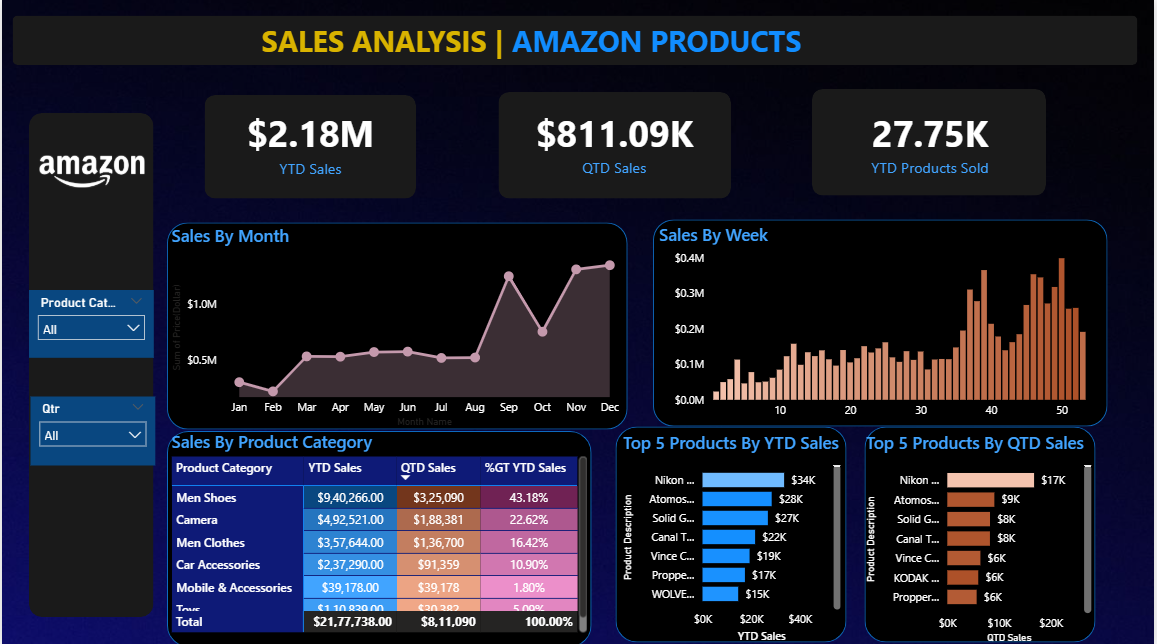

The page's visual inventory and layout, read from the dashboard file:
{"tool":"powerbi","page":{"name":"Page 1","canvas":[1280,720],"ordinal":0},"visuals":[{"type":"shape","box":[11.7,18.3,1250,55],"z":0},{"type":"textbox","box":[283.3,18.3,630,61.7],"z":1000},{"type":"shape","box":[30,126.7,138.3,560],"z":2000},{"type":"shape","box":[183.3,480,471.7,240],"z":3000},{"type":"shape","box":[900,100,260,118.3],"z":4000},{"type":"shape","box":[551.7,103.3,258.3,118.3],"z":5000},{"type":"card","fields":{"Values":["Amazon_Data.QTD Sales"]},"box":[550,100,260,116.7],"z":6000},{"type":"card","fields":{"Values":["Amazon_Data.YTD Products Sold"]},"box":[901.7,100,258.3,116.7],"z":7000},{"type":"shape","box":[183.3,248.3,511.7,230],"z":8000},{"type":"areaChart","title":"Sales By Month","fields":{"Category":["Date Table.Month Name"],"Y":["Sum(Amazon_Data.Price(Dollar))"]},"box":[183.3,250,511.7,230],"z":9000},{"type":"shape","box":[723.3,245,505,230],"z":10000},{"type":"columnChart","title":"Sales By Week","fields":{"Category":["Date Table.Week No"],"Y":["Sum(Amazon_Data.Price(Dollar))"]},"box":[725,248.3,503.3,226.7],"z":11000},{"type":"shape","box":[225,106.7,235,115],"z":12000},{"type":"pivotTable","title":"Sales By Product Category","fields":{"Rows":["Amazon_Data.Product Category"],"Values":["Amazon_Data.YTD Sales1","Amazon_Data.QTD Sales","Amazon_Data.YTD Sales"]},"box":[183.3,478.3,471.7,230],"z":13000},{"type":"card","fields":{"Values":["Amazon_Data.YTD Sales"]},"box":[225,101.7,235,115],"z":14000},{"type":"shape","box":[681.7,475,256.7,240],"z":14001},{"type":"clusteredBarChart","title":"Top 5 Products By YTD Sales","fields":{"Category":["Amazon_Data.Product Description"],"Y":["Amazon_Data.YTD Sales"]},"box":[685,480,251.7,240],"z":14002},{"type":"shape","box":[958.3,475,256.7,240],"z":14003},{"type":"clusteredBarChart","title":"Top 5 Products By QTD Sales","fields":{"Category":["Amazon_Data.Product Description"],"Y":["Amazon_Data.QTD Sales"]},"box":[955,480,260,240],"z":14004},{"type":"slicer","fields":{"Values":["Amazon_Data.Product Category"]},"box":[30,323.3,138.3,75],"z":14005},{"type":"slicer","fields":{"Values":["Date Table.Qtr"]},"box":[31.7,441.7,138.3,76.7],"z":14006},{"type":"image","box":[41.7,133.3,116.7,116.7],"z":14007}]}

Visuals, with their boxes in screenshot pixels (x1, y1, x2, y2), scaled from the page's 1280x720 canvas onto the 1157x644 screenshot:
shape: 11, 16, 1140, 66
textbox: 256, 16, 826, 72
shape: 27, 113, 152, 614
shape: 166, 429, 592, 643
shape: 814, 89, 1049, 195
shape: 499, 92, 732, 198
card - Amazon_Data.QTD Sales: 497, 89, 732, 194
card - Amazon_Data.YTD Products Sold: 815, 89, 1049, 194
shape: 166, 222, 628, 428
"Sales By Month" areaChart: 166, 224, 628, 429
shape: 654, 219, 1110, 425
"Sales By Week" columnChart: 655, 222, 1110, 425
shape: 203, 95, 416, 198
"Sales By Product Category" pivotTable: 166, 428, 592, 634
card - Amazon_Data.YTD Sales: 203, 91, 416, 194
shape: 616, 425, 848, 640
"Top 5 Products By YTD Sales" clusteredBarChart: 619, 429, 847, 643
shape: 866, 425, 1098, 640
"Top 5 Products By QTD Sales" clusteredBarChart: 863, 429, 1098, 643
slicer - Amazon_Data.Product Category: 27, 289, 152, 356
slicer - Date Table.Qtr: 29, 395, 154, 464
image: 38, 119, 143, 224
